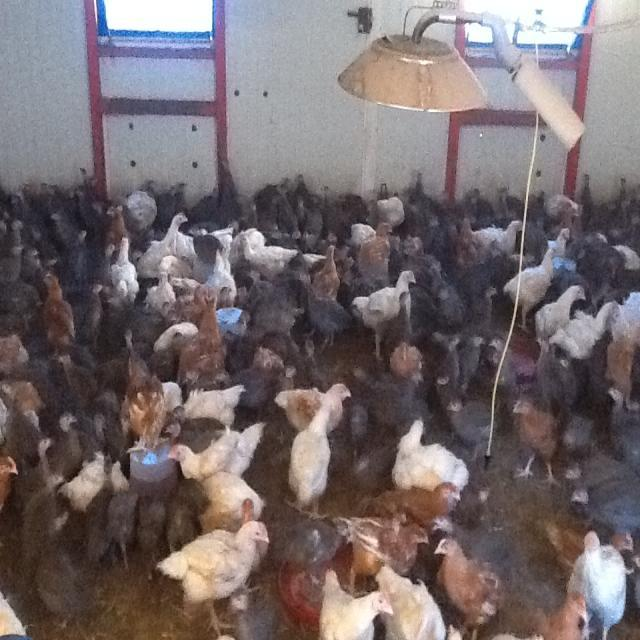poussin: (147, 522, 270, 620), (332, 512, 430, 586), (432, 541, 512, 631), (112, 353, 170, 474), (234, 270, 300, 376), (372, 560, 458, 640), (572, 530, 634, 635), (506, 398, 564, 487), (278, 519, 344, 593), (401, 418, 461, 499), (315, 571, 385, 640), (554, 298, 617, 373), (236, 224, 322, 278), (298, 274, 348, 366), (180, 298, 229, 387), (508, 241, 558, 325), (196, 472, 268, 530), (363, 279, 424, 347), (548, 407, 608, 476), (21, 459, 65, 553), (166, 434, 264, 476), (36, 546, 84, 630), (278, 382, 355, 434), (572, 478, 640, 536), (294, 406, 328, 520), (375, 481, 457, 528), (57, 350, 111, 420), (524, 284, 588, 342), (146, 209, 192, 285), (42, 266, 76, 364), (534, 590, 600, 640), (178, 382, 246, 430), (139, 256, 179, 336), (607, 381, 640, 472), (356, 430, 395, 507), (233, 368, 285, 424), (369, 376, 425, 426), (444, 394, 502, 442), (164, 482, 208, 545), (606, 321, 636, 411), (266, 330, 322, 378), (8, 386, 45, 458), (606, 288, 640, 363), (186, 222, 254, 258), (88, 474, 114, 567), (65, 452, 107, 509), (292, 173, 329, 237), (492, 333, 530, 395), (130, 491, 166, 556), (470, 216, 527, 255), (570, 451, 626, 490), (22, 175, 68, 222), (110, 232, 140, 302), (68, 164, 101, 227), (256, 342, 301, 388), (388, 286, 412, 372), (123, 184, 157, 244), (356, 220, 402, 264), (9, 276, 43, 335), (108, 482, 136, 552), (62, 224, 94, 285), (574, 230, 614, 278), (472, 282, 504, 340), (255, 178, 294, 225), (526, 338, 554, 401), (411, 172, 437, 237), (203, 251, 238, 299), (195, 180, 238, 218), (81, 278, 104, 349), (156, 179, 191, 224), (58, 403, 80, 474), (28, 426, 56, 481), (554, 348, 576, 418), (440, 284, 466, 343), (34, 222, 60, 280), (90, 235, 118, 287), (442, 202, 467, 260), (240, 266, 272, 309), (546, 194, 582, 232), (338, 197, 373, 236), (110, 326, 142, 368), (318, 240, 338, 305), (500, 184, 532, 224), (2, 235, 22, 298), (346, 400, 368, 455), (86, 412, 108, 466), (403, 230, 426, 281), (0, 330, 24, 378), (0, 179, 28, 220), (104, 201, 130, 245), (6, 209, 30, 256), (467, 316, 483, 386), (1, 378, 36, 410), (436, 364, 462, 406), (0, 453, 17, 517), (374, 200, 406, 234), (430, 254, 450, 308), (106, 459, 130, 503), (613, 240, 640, 279), (448, 328, 464, 388), (576, 173, 598, 216), (391, 344, 420, 376), (465, 182, 486, 218), (555, 225, 574, 263), (48, 212, 72, 242), (615, 176, 632, 218), (26, 242, 42, 283), (456, 213, 471, 245), (375, 179, 392, 204)
